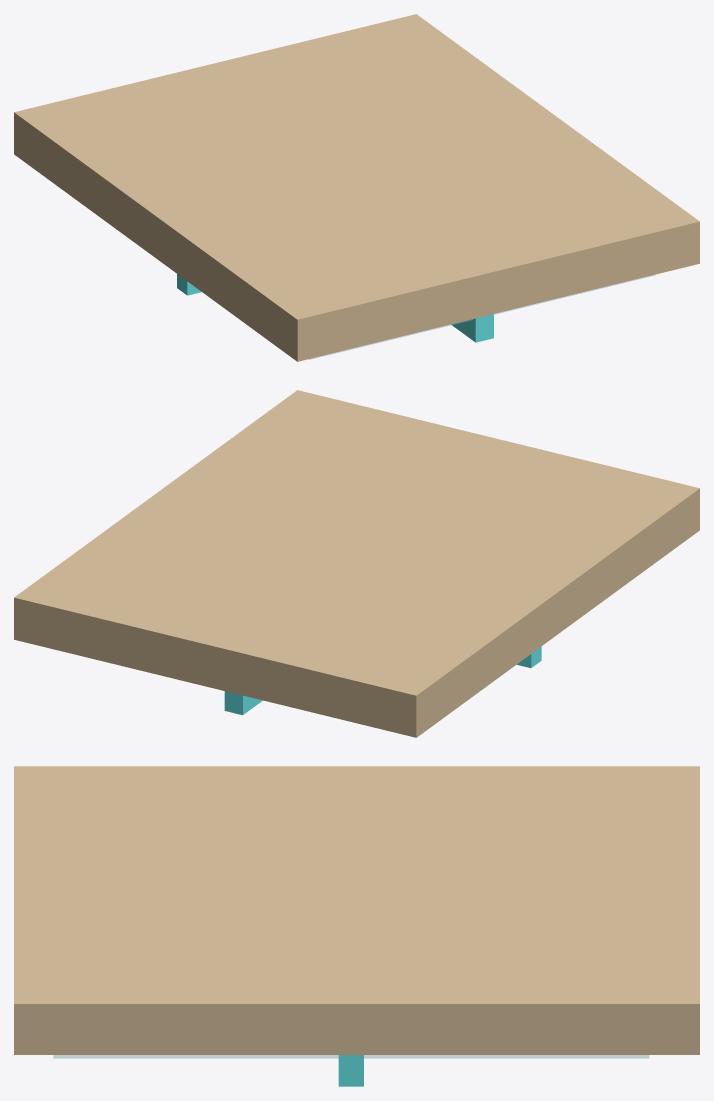
Rendered from window-single.glb.
3 renders of one model, top to bottom at view 1: azimuth 30°, elevation 25°; view 2: azimuth 150°, elevation 25°; view 3: azimuth 270°, elevation 25°, orthographic. The views are drawn at different scales.
Visible parts, largest first — view 1: world; view 2: world; view 3: world.
Part boxes in pixels (<box>): world: <box>14,14,699,361</box>; world: <box>14,390,699,737</box>; world: <box>14,766,699,1086</box>.
Bounding box in the file's own units: 1 × 0.19 × 1.22.
